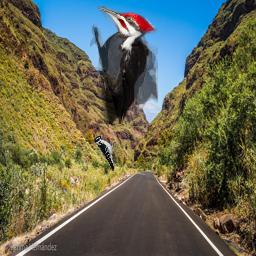Woodpecker: (87, 6, 158, 124), (94, 135, 117, 171)
